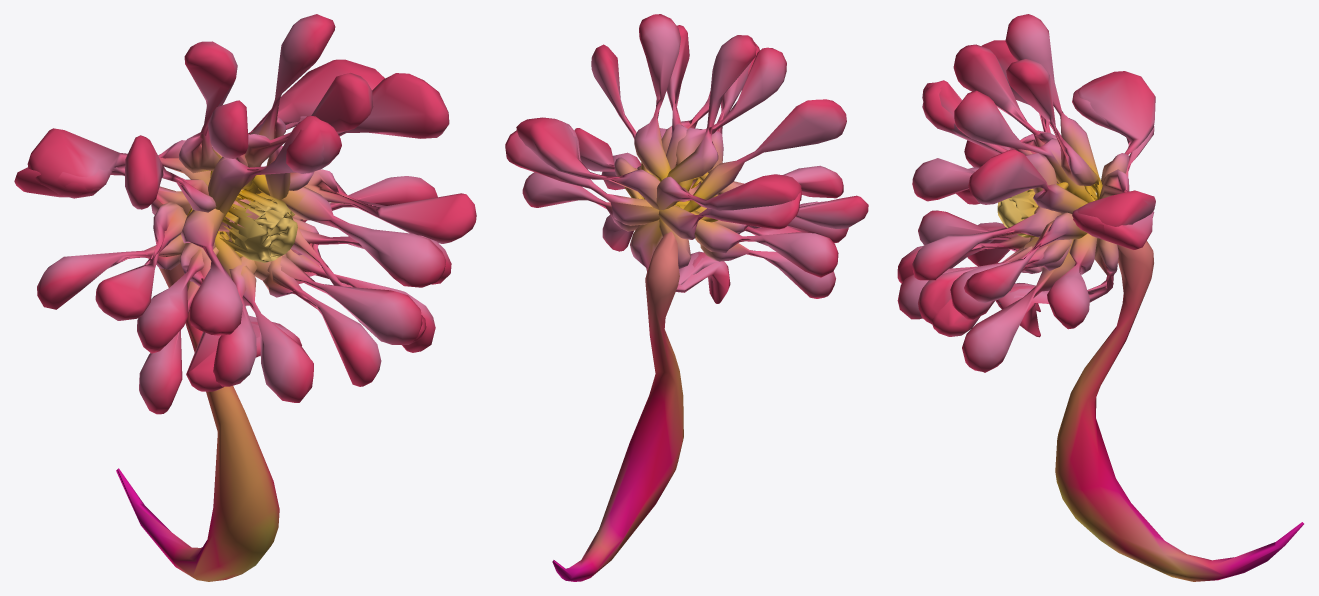
3 views of the same model, side by side, from view 1: azimuth 30°, elevation 25°; view 2: azimuth 150°, elevation 25°; view 3: azimuth 270°, elevation 25° (orthographic). The views are drawn at different scales.
Parts seen in each view (by area): view 1: LOD 5_6177960798552739207_21c40791c56367b44a9c269bf2c0023c; view 2: LOD 5_6177960798552739207_21c40791c56367b44a9c269bf2c0023c; view 3: LOD 5_6177960798552739207_21c40791c56367b44a9c269bf2c0023c.
Boxes of the visible parts, x1,y1,x2,y2 form: LOD 5_6177960798552739207_21c40791c56367b44a9c269bf2c0023c: [14, 14, 476, 581]; LOD 5_6177960798552739207_21c40791c56367b44a9c269bf2c0023c: [505, 14, 868, 581]; LOD 5_6177960798552739207_21c40791c56367b44a9c269bf2c0023c: [897, 14, 1303, 581].
Bounding box in the file's own units: 1.48 × 2.23 × 1.56.
